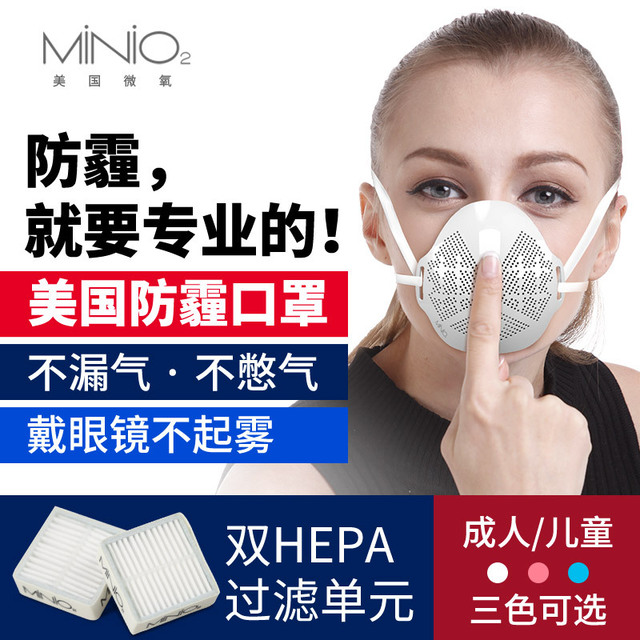mask: (427, 201, 559, 365)
